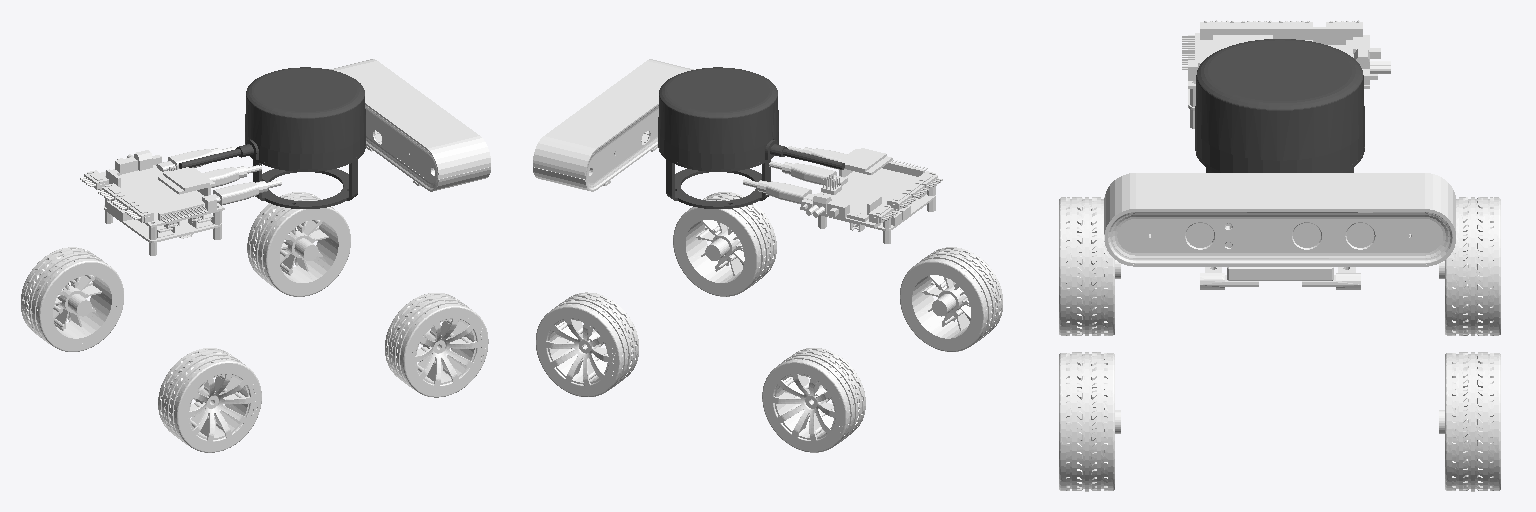
robot.urdf — mini_4wd_robot:
<?xml version="1.0" encoding="utf-8"?>
<!-- This URDF was automatically created by SolidWorks to URDF Exporter! Originally created by [author] ([email redacted]) 
     Commit Version: 1.6.0-4-g7f85cfe  Build Version: 1.6.7995.38578
     For more information, please see http://wiki.ros.org/sw_urdf_exporter -->
<robot
  name="mini_4wd_robot">
  <link
    name="base_link">
    <inertial>
      <origin
        xyz="-0.0128421829279015 -0.0198593937870083 0.00472064301055347"
        rpy="0 0 0" />
      <mass
        value="0.619760484843179" />
      <inertia
        ixx="0.00049908549476667"
        ixy="-1.7170206624065E-06"
        ixz="-4.24523881219841E-07"
        iyy="0.000746458274197243"
        iyz="-7.41976515459759E-07"
        izz="0.00114198658204837" />
    </inertial>
    <visual>
      <origin
        xyz="0 0 0"
        rpy="0 0 0" />
      <geometry>
        <mesh
          filename="package://wheeltec_robot_urdf/meshes/mini_4wd_robot_meshes/base_link.STL" />
      </geometry>
      <material
        name="">
        <color
          rgba="0.741176470588235 0.901960784313726 0.956862745098039 1" />
      </material>
    </visual>
    <collision>
      <origin
        xyz="0 0 0"
        rpy="0 0 0" />
      <geometry>
        <mesh
          filename="package://wheeltec_robot_urdf/meshes/mini_4wd_robot_meshes/base_link.STL" />
      </geometry>
    </collision>
  </link>
  <link
    name="lf_wheel_link">
    <inertial>
      <origin
        xyz="-1.27712550672052E-07 -0.000325096094343197 2.97668804279116E-07"
        rpy="0 0 0" />
      <mass
        value="0.0420381277202372" />
      <inertia
        ixx="1.72190960888397E-05"
        ixy="2.03639273675061E-09"
        ixz="2.4149299899044E-09"
        iyy="2.97212421151102E-05"
        iyz="-2.15428671658865E-11"
        izz="1.72364765737453E-05" />
    </inertial>
    <visual>
      <origin
        xyz="0 0 0"
        rpy="0 0 0" />
      <geometry>
        <mesh
          filename="package://wheeltec_robot_urdf/meshes/mini_4wd_robot_meshes/lf_wheel_link.STL" />
      </geometry>
      <material
        name="">
        <color
          rgba="1 1 1 1" />
      </material>
    </visual>
    <collision>
      <origin
        xyz="0 0 0"
        rpy="0 0 0" />
      <geometry>
        <mesh
          filename="package://wheeltec_robot_urdf/meshes/mini_4wd_robot_meshes/lf_wheel_link.STL" />
      </geometry>
    </collision>
  </link>
  <joint
    name="lf_wheel_joint"
    type="continuous">
    <origin
      xyz="0.0788866867829701 0.090902092708038 -0.0363"
      rpy="0 0 0" />
    <parent
      link="base_link" />
    <child
      link="lf_wheel_link" />
    <axis
      xyz="0 1 0" />
  </joint>
  <link
    name="lb_wheel_link">
    <inertial>
      <origin
        xyz="-1.28150099226731E-07 -0.000325096043508583 2.97625719625216E-07"
        rpy="0 0 0" />
      <mass
        value="0.0420381286687321" />
      <inertia
        ixx="1.72190959347134E-05"
        ixy="2.03643074352543E-09"
        ixz="2.41484184900578E-09"
        iyy="2.97212425394595E-05"
        iyz="-2.15391461481771E-11"
        izz="1.72364771579999E-05" />
    </inertial>
    <visual>
      <origin
        xyz="0 0 0"
        rpy="0 0 0" />
      <geometry>
        <mesh
          filename="package://wheeltec_robot_urdf/meshes/mini_4wd_robot_meshes/lb_wheel_link.STL" />
      </geometry>
      <material
        name="">
        <color
          rgba="1 1 1 1" />
      </material>
    </visual>
    <collision>
      <origin
        xyz="0 0 0"
        rpy="0 0 0" />
      <geometry>
        <mesh
          filename="package://wheeltec_robot_urdf/meshes/mini_4wd_robot_meshes/lb_wheel_link.STL" />
      </geometry>
    </collision>
  </link>
  <joint
    name="lb_wheel_joint"
    type="continuous">
    <origin
      xyz="-0.0930133132170299 0.0909020927080386 -0.0363"
      rpy="0 0 0" />
    <parent
      link="base_link" />
    <child
      link="lb_wheel_link" />
    <axis
      xyz="0 1 0" />
  </joint>
  <link
    name="rb_wheel_link">
    <inertial>
      <origin
        xyz="1.28149403894051E-07 0.000325096047440132 2.97624308309707E-07"
        rpy="0 0 0" />
      <mass
        value="0.0420381286421594" />
      <inertia
        ixx="1.72190962340715E-05"
        ixy="2.03640106869117E-09"
        ixz="-2.41477994262437E-09"
        iyy="2.97212428073701E-05"
        iyz="2.15356782895359E-11"
        izz="1.72364771452533E-05" />
    </inertial>
    <visual>
      <origin
        xyz="0 0 0"
        rpy="0 0 0" />
      <geometry>
        <mesh
          filename="package://wheeltec_robot_urdf/meshes/mini_4wd_robot_meshes/rb_wheel_link.STL" />
      </geometry>
      <material
        name="">
        <color
          rgba="1 1 1 1" />
      </material>
    </visual>
    <collision>
      <origin
        xyz="0 0 0"
        rpy="0 0 0" />
      <geometry>
        <mesh
          filename="package://wheeltec_robot_urdf/meshes/mini_4wd_robot_meshes/rb_wheel_link.STL" />
      </geometry>
    </collision>
  </link>
  <joint
    name="rb_wheel_joint"
    type="continuous">
    <origin
      xyz="-0.0930053132170305 -0.0907239072919614 -0.0363"
      rpy="0 0 0" />
    <parent
      link="base_link" />
    <child
      link="rb_wheel_link" />
    <axis
      xyz="0 1 0" />
  </joint>
  <link
    name="rf_wheel_link">
    <inertial>
      <origin
        xyz="1.27697581011558E-07 0.000325096090387209 2.97695706086287E-07"
        rpy="0 0 0" />
      <mass
        value="0.0420381277503723" />
      <inertia
        ixx="1.7219096206293E-05"
        ixy="2.03637766318229E-09"
        ixz="-2.41488182670862E-09"
        iyy="2.97212422221003E-05"
        iyz="2.153998885685E-11"
        izz="1.72364765727325E-05" />
    </inertial>
    <visual>
      <origin
        xyz="0 0 0"
        rpy="0 0 0" />
      <geometry>
        <mesh
          filename="package://wheeltec_robot_urdf/meshes/mini_4wd_robot_meshes/rf_wheel_link.STL" />
      </geometry>
      <material
        name="">
        <color
          rgba="1 1 1 1" />
      </material>
    </visual>
    <collision>
      <origin
        xyz="0 0 0"
        rpy="0 0 0" />
      <geometry>
        <mesh
          filename="package://wheeltec_robot_urdf/meshes/mini_4wd_robot_meshes/rf_wheel_link.STL" />
      </geometry>
    </collision>
  </link>
  <joint
    name="rf_wheel_joint"
    type="continuous">
    <origin
      xyz="0.0788946867829695 -0.090723907291962 -0.0363"
      rpy="0 0 0" />
    <parent
      link="base_link" />
    <child
      link="rf_wheel_link" />
    <axis
      xyz="0 1 0" />
  </joint>
  <link
    name="laser_link">
    <inertial>
      <origin
        xyz="0.00196458631046099 -3.57895428399795E-06 0.00189816836722938"
        rpy="0 0 0" />
      <mass
        value="0.0477519163775583" />
      <inertia
        ixx="3.38461999766101E-05"
        ixy="-2.19897141950282E-09"
        ixz="1.07118468648131E-06"
        iyy="3.94150415881323E-05"
        iyz="6.83978165807776E-10"
        izz="5.60787042136426E-05" />
    </inertial>
    <visual>
      <origin
        xyz="0 0 0"
        rpy="0 0 0" />
      <geometry>
        <mesh
          filename="package://wheeltec_robot_urdf/meshes/mini_4wd_robot_meshes/laser.STL" />
      </geometry>
      <material
        name="">
        <color
          rgba="0.376470588235294 0.376470588235294 0.376470588235294 1" />
      </material>
    </visual>
    <collision>
      <origin
        xyz="0 0 0"
        rpy="0 0 0" />
      <geometry>
        <mesh
          filename="package://wheeltec_robot_urdf/meshes/mini_4wd_robot_meshes/laser.STL" />
      </geometry>
    </collision>
  </link>
  <joint
    name="laser_joint"
    type="fixed">
    <origin
      xyz="0.0316310367407428 9.05810809801877E-05 0.09292418374143"
      rpy="0 0 3.14159265358979" />
    <parent
      link="base_link" />
    <child
      link="laser_link" />
    <axis
      xyz="0 0 0" />
  </joint>
  <link
    name="controller_link">
    <inertial>
      <origin
        xyz="-0.0178772421800459 0.0389174701067245 0.0213653101693057"
        rpy="0 0 0" />
      <mass
        value="0.0391683061674007" />
      <inertia
        ixx="2.20183096868336E-05"
        ixy="1.2570811872774E-06"
        ixz="1.53420711428651E-09"
        iyy="2.40630534171015E-05"
        iyz="2.27786586281681E-07"
        izz="4.51084285172614E-05" />
    </inertial>
    <visual>
      <origin
        xyz="0 0 0"
        rpy="0 0 0" />
      <geometry>
        <mesh
          filename="package://wheeltec_robot_urdf/meshes/mini_4wd_robot_meshes/controller_link.STL" />
      </geometry>
      <material
        name="">
        <color
          rgba="1 1 1 1" />
      </material>
    </visual>
    <collision>
      <origin
        xyz="0 0 0"
        rpy="0 0 0" />
      <geometry>
        <mesh
          filename="package://wheeltec_robot_urdf/meshes/mini_4wd_robot_meshes/controller_link.STL" />
      </geometry>
    </collision>
  </link>
  <joint
    name="controller_joint"
    type="fixed">
    <origin
      xyz="-0.0556343132168706 -0.0407821141826353 0.0519999999999999"
      rpy="0 0 0" />
    <parent
      link="base_link" />
    <child
      link="controller_link" />
    <axis
      xyz="0 0 0" />
  </joint>
  <link
    name="camera_link">
    <inertial>
      <origin
        xyz="3.50190324967248E-07 9.10362268407238E-08 1.07624234177428E-07"
        rpy="0 0 0" />
      <mass
        value="0.0559842512080236" />
      <inertia
        ixx="0.000130810959339227"
        ixy="1.20255128206473E-07"
        ixz="1.62335437080084E-06"
        iyy="1.91148634967935E-05"
        iyz="-2.80016755793737E-08"
        izz="0.000131387469523042" />
    </inertial>
    <visual>
      <origin
        xyz="0 0 0"
        rpy="0 0 0" />
      <geometry>
        <mesh
          filename="package://wheeltec_robot_urdf/meshes/mini_4wd_robot_meshes/camera_link.STL" />
      </geometry>
      <material
        name="">
        <color
          rgba="1 1 1 1" />
      </material>
    </visual>
    <collision>
      <origin
        xyz="0 0 0"
        rpy="0 0 0" />
      <geometry>
        <mesh
          filename="package://wheeltec_robot_urdf/meshes/mini_4wd_robot_meshes/camera_link.STL" />
      </geometry>
    </collision>
  </link>
  <joint
    name="camera_joint"
    type="fixed">
    <origin
      xyz="0.10709468678297 0.000317092708037946 0.076704"
      rpy="0 0 0" />
    <parent
      link="base_link" />
    <child
      link="camera_link" />
    <axis
      xyz="0 0 0" />
  </joint>
</robot>

--- What the picture shows (computed from the rendered views, not written in the file) ---
The picture shows the robot from 3 angles, left to right: view 1: azimuth 30°, elevation 25°; view 2: azimuth 150°, elevation 25°; view 3: azimuth 270°, elevation 25°; orthographic projection.
Robot: mini_4wd_robot — 8 links, 7 joints (4 continuous, 3 fixed); root link base_link; default pose: all joints at 0.
Links seen in each view (by area): view 1: laser_link, controller_link, camera_link, rb_wheel_link, rf_wheel_link, lb_wheel_link, lf_wheel_link; view 2: laser_link, camera_link, controller_link, lb_wheel_link, rb_wheel_link, lf_wheel_link, rf_wheel_link; view 3: camera_link, laser_link, lf_wheel_link, rf_wheel_link, rb_wheel_link, lb_wheel_link, controller_link.
Boxes of the visible links, <box> form: laser_link: <box>179,67,365,208</box>; controller_link: <box>80,147,281,255</box>; camera_link: <box>329,59,490,191</box>; rb_wheel_link: <box>158,348,261,452</box>; rf_wheel_link: <box>385,293,488,397</box>; lb_wheel_link: <box>21,247,123,351</box>; lf_wheel_link: <box>247,192,350,296</box>; laser_link: <box>658,67,844,208</box>; camera_link: <box>533,59,693,191</box>; controller_link: <box>743,146,942,243</box>; lb_wheel_link: <box>762,348,865,452</box>; rb_wheel_link: <box>900,247,1002,351</box>; lf_wheel_link: <box>536,292,638,396</box>; rf_wheel_link: <box>673,192,776,296</box>; camera_link: <box>1104,173,1455,289</box>; laser_link: <box>1195,39,1364,172</box>; lf_wheel_link: <box>1439,352,1500,491</box>; rf_wheel_link: <box>1059,352,1120,491</box>; rb_wheel_link: <box>1059,197,1120,335</box>; lb_wheel_link: <box>1439,197,1500,335</box>; controller_link: <box>1182,20,1390,128</box>.
Bounding box of the posed robot: 0.2508 × 0.207 × 0.1918 m (x, y, z).
Meshes: 8 distinct files referenced, 7 mesh visuals loaded (7 binary STL); not drawn: 1 (reference not matched to a file when rendering).